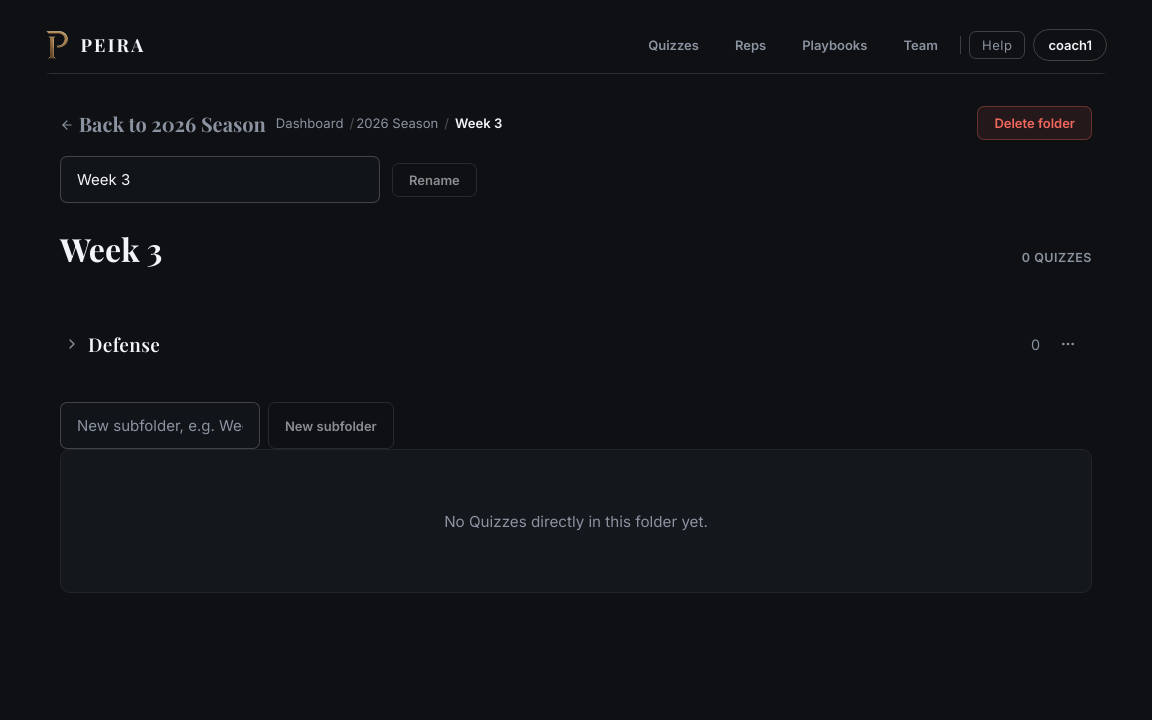
Scenario: FolderPage deep nesting › offers rename and delete on a child row, in one menu
The image size is (1152, 720).
Expected: the link named "Defense" is shown, x1=64 y1=331 x2=1040 y2=357
Click the button named "Folder options for Defense".
click(1068, 344)  # box x1=1048 y1=324 x2=1088 y2=364
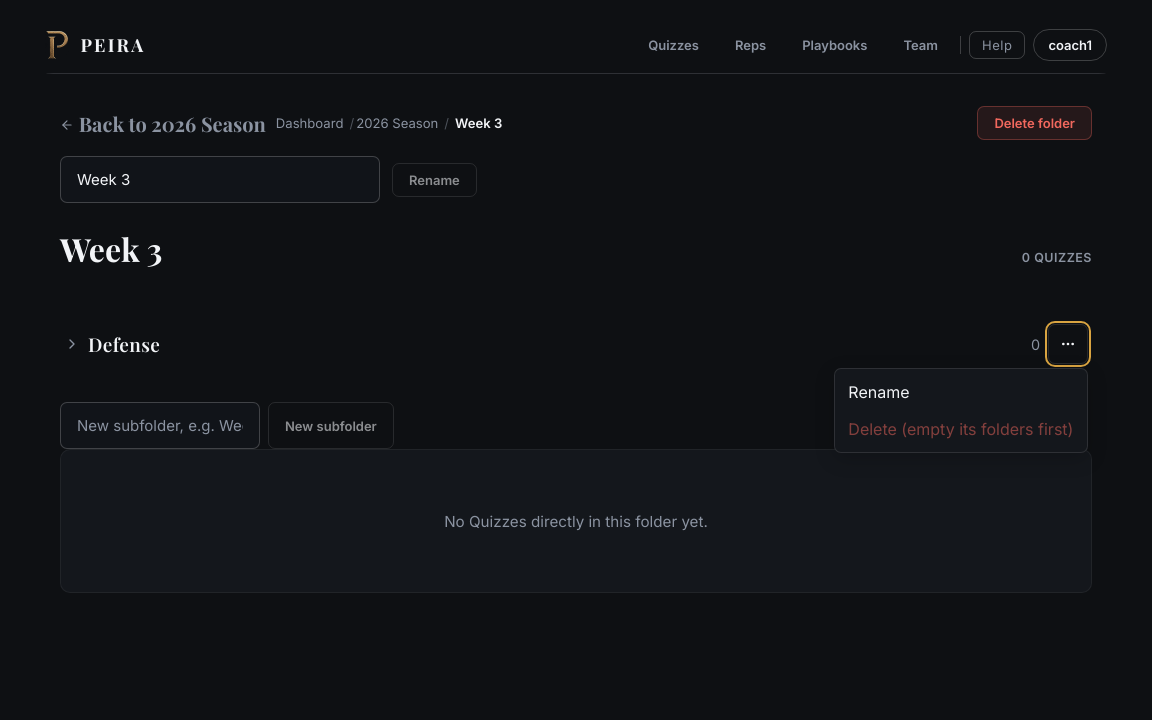
Expected: the menu item "Rename" is shown, x1=839 y1=373 x2=1083 y2=411
Expected: the menu item "Delete (empty its folders first)" is shown, x1=839 y1=411 x2=1083 y2=448
